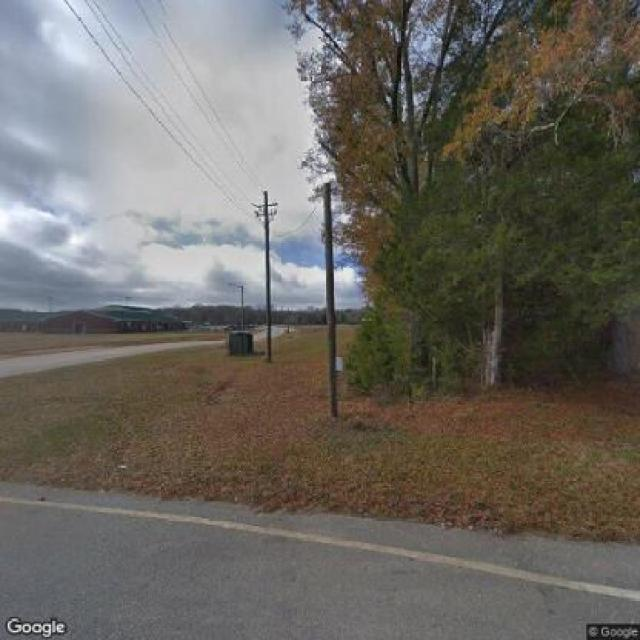pole: (241, 184, 294, 358)
